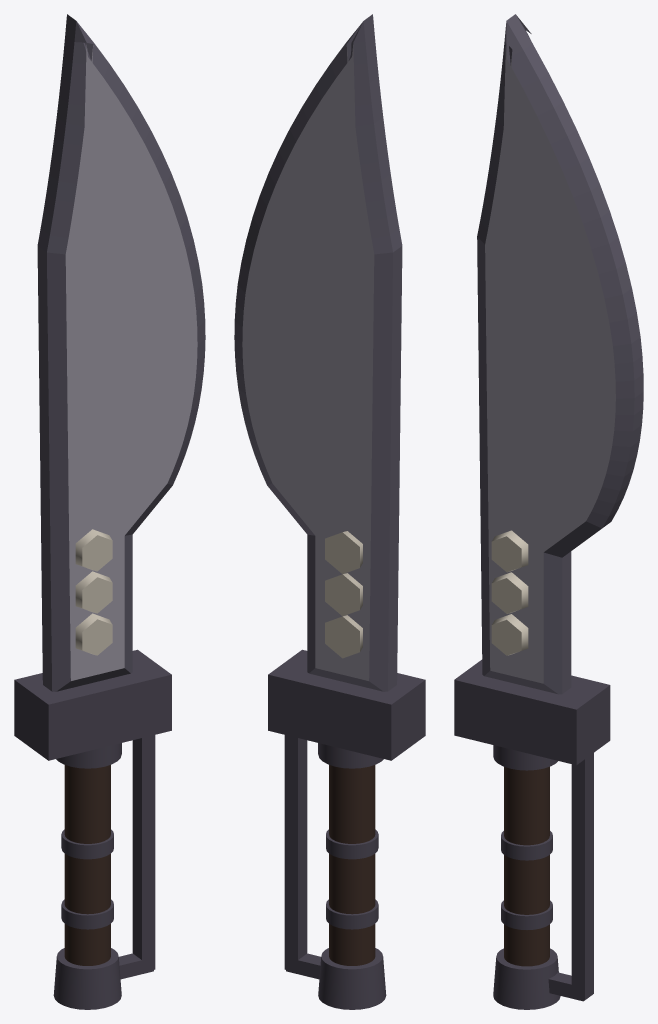
File: DualBlade.glb
The picture shows the model from 3 angles, left to right: view 1: azimuth 30°, elevation 25°; view 2: azimuth 150°, elevation 25°; view 3: azimuth 330°, elevation 25°; orthographic projection.
Parts seen in each view (by area): view 1: blade, guard, grip, knuckleBar, pommel, stud2F, stud1F, stud0F, guardCollar, gripBand0.3, gripBand0.55, knuckleFoot; view 2: blade, guard, grip, knuckleBar, pommel, stud1B, stud2B, stud0B, guardCollar, gripBand0.3, gripBand0.55, knuckleFoot; view 3: blade, guard, grip, knuckleBar, pommel, stud2F, stud0F, stud1F, guardCollar, gripBand0.55, gripBand0.3, knuckleFoot.
Boxes of the visible parts, x1,y1,x2,y2 form: blade: (37, 14, 205, 691); guard: (14, 649, 171, 760); grip: (64, 765, 110, 965); knuckleBar: (132, 735, 155, 972); pommel: (53, 948, 121, 1009); stud2F: (75, 529, 112, 571); stud1F: (75, 571, 112, 613); stud0F: (75, 613, 112, 655); guardCollar: (56, 743, 121, 768); gripBand0.3: (61, 899, 113, 929); gripBand0.55: (61, 829, 113, 859); knuckleFoot: (119, 953, 153, 979); blade: (234, 14, 402, 691); guard: (268, 649, 425, 760); grip: (329, 765, 375, 965); knuckleBar: (284, 735, 307, 972); pommel: (318, 948, 386, 1009); stud1B: (325, 573, 362, 616); stud2B: (325, 531, 362, 574); stud0B: (325, 615, 362, 658); guardCollar: (318, 743, 383, 768); gripBand0.3: (326, 899, 378, 929); gripBand0.55: (326, 829, 378, 859); knuckleFoot: (286, 953, 320, 979); blade: (477, 14, 643, 694); guard: (454, 659, 610, 765); grip: (504, 766, 549, 966); knuckleBar: (571, 753, 593, 1000); pommel: (493, 948, 560, 1009); stud2F: (491, 530, 528, 572); stud0F: (491, 614, 528, 655); stud1F: (491, 572, 528, 613); guardCollar: (493, 745, 557, 770); gripBand0.55: (501, 831, 552, 860); gripBand0.3: (501, 900, 552, 929); knuckleFoot: (548, 972, 584, 1001).
Size of the model in its own units: 0.6319 by 3.5 by 0.22.
